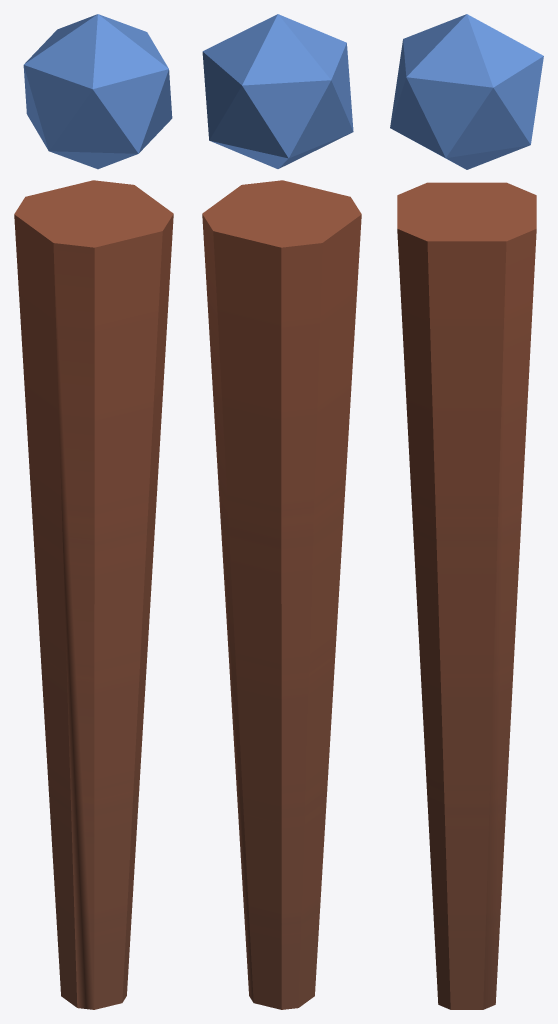
Rendered from varita_laser.fbx.
3 views of the same model, side by side, from view 1: azimuth 30°, elevation 25°; view 2: azimuth 150°, elevation 25°; view 3: azimuth 270°, elevation 25° (orthographic).
Parts seen in each view (by area): view 1: varita_laser; view 2: varita_laser; view 3: varita_laser.
Part boxes in pixels (x1=…): varita_laser: x1=14, y1=14, x2=173, y2=1009; varita_laser: x1=202, y1=14, x2=361, y2=1009; varita_laser: x1=390, y1=14, x2=543, y2=1009.
Size of the model in its own units: 13.77 by 101 by 14.29.
1 material, 1 textured.
